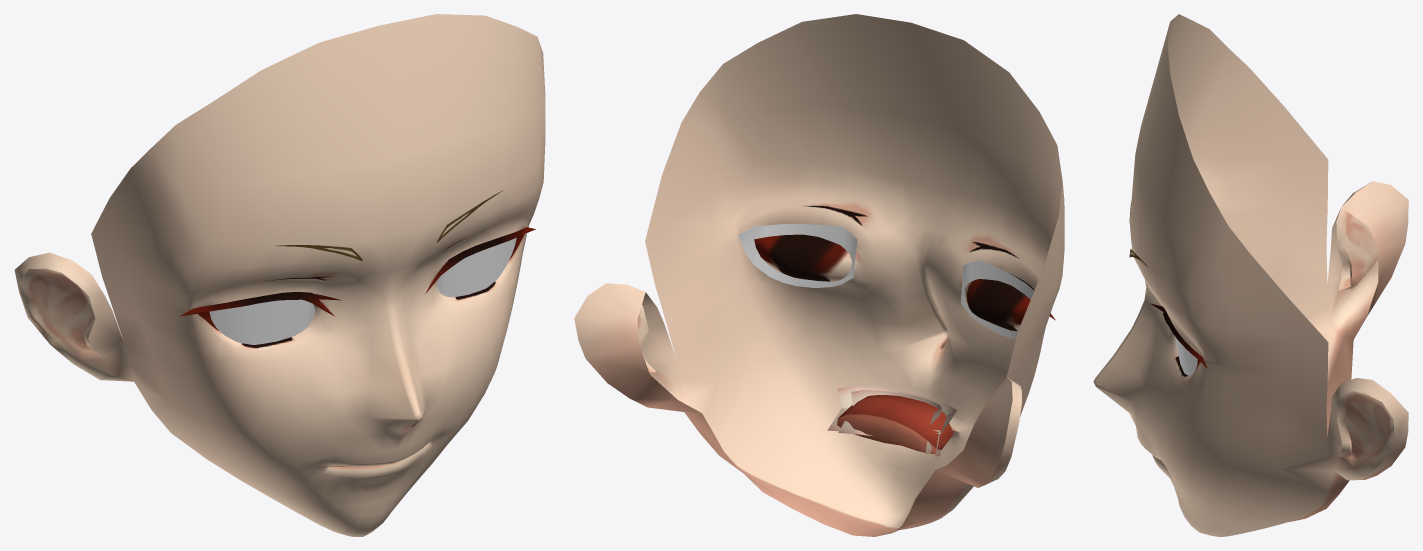
The model's file is Aira.fbx.
3 views of the same model, side by side, from view 1: azimuth 30°, elevation 25°; view 2: azimuth 150°, elevation 25°; view 3: azimuth 270°, elevation 25° (orthographic). The views are drawn at different scales.
Parts seen in each view (by area): view 1: M_Head, M_Eye_B_Def, M_Mth_B_Def, M_PupALL_R_A_Def, M_PupALL_L_A_Def, M_Brw_B_Def; view 2: M_Head, M_Eye_B_Def, M_Mth_B_Def, M_PupALL_L_A_Def, M_PupALL_R_A_Def; view 3: M_Head, M_Eye_B_Def, M_Mth_B_Def, M_PupALL_L_A_Def.
Part boxes in pixels (x1,y1,x2,y2): M_Head: [14, 14, 545, 421]; M_Eye_B_Def: [148, 153, 544, 431]; M_Mth_B_Def: [134, 373, 494, 536]; M_PupALL_R_A_Def: [209, 299, 315, 344]; M_PupALL_L_A_Def: [437, 237, 516, 297]; M_Brw_B_Def: [275, 190, 503, 261]; M_Head: [574, 14, 1064, 487]; M_Eye_B_Def: [697, 158, 1064, 416]; M_Mth_B_Def: [684, 331, 997, 536]; M_PupALL_L_A_Def: [738, 224, 857, 287]; M_PupALL_R_A_Def: [961, 260, 1034, 339]; M_Head: [1129, 14, 1408, 480]; M_Eye_B_Def: [1093, 128, 1233, 464]; M_Mth_B_Def: [1093, 331, 1353, 536]; M_PupALL_L_A_Def: [1175, 336, 1197, 375].
Bounding box in the file's own units: 0.1778 × 0.1881 × 0.1099.
Materials: 5 (3 with a texture image).
